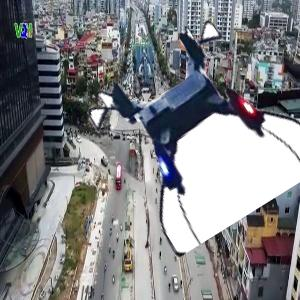drone: (99, 31, 298, 230)
